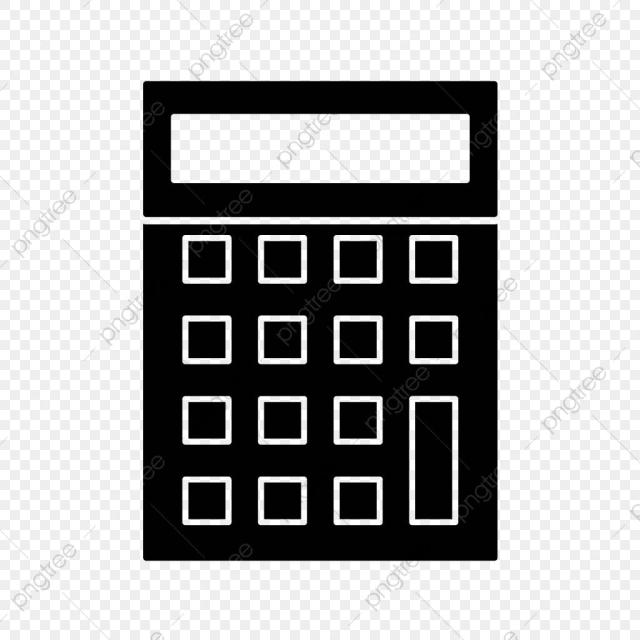Calculator: (73, 44, 560, 631)
